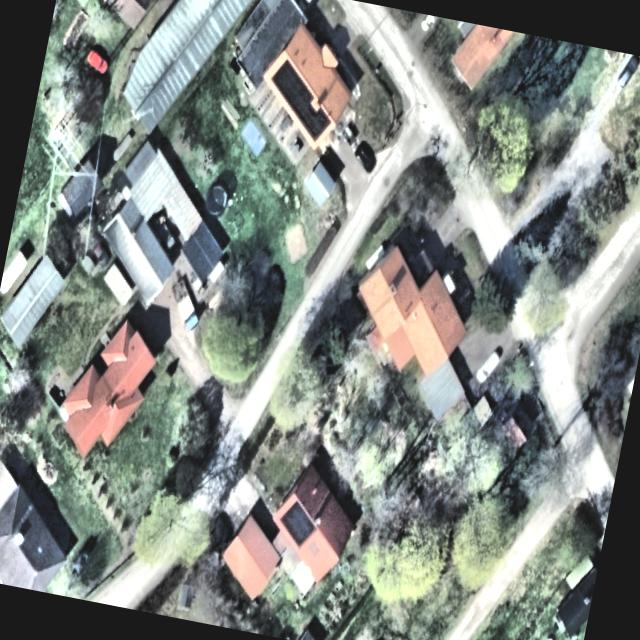roof_pv: (266, 53, 320, 119), (274, 493, 323, 552), (297, 106, 333, 150)
